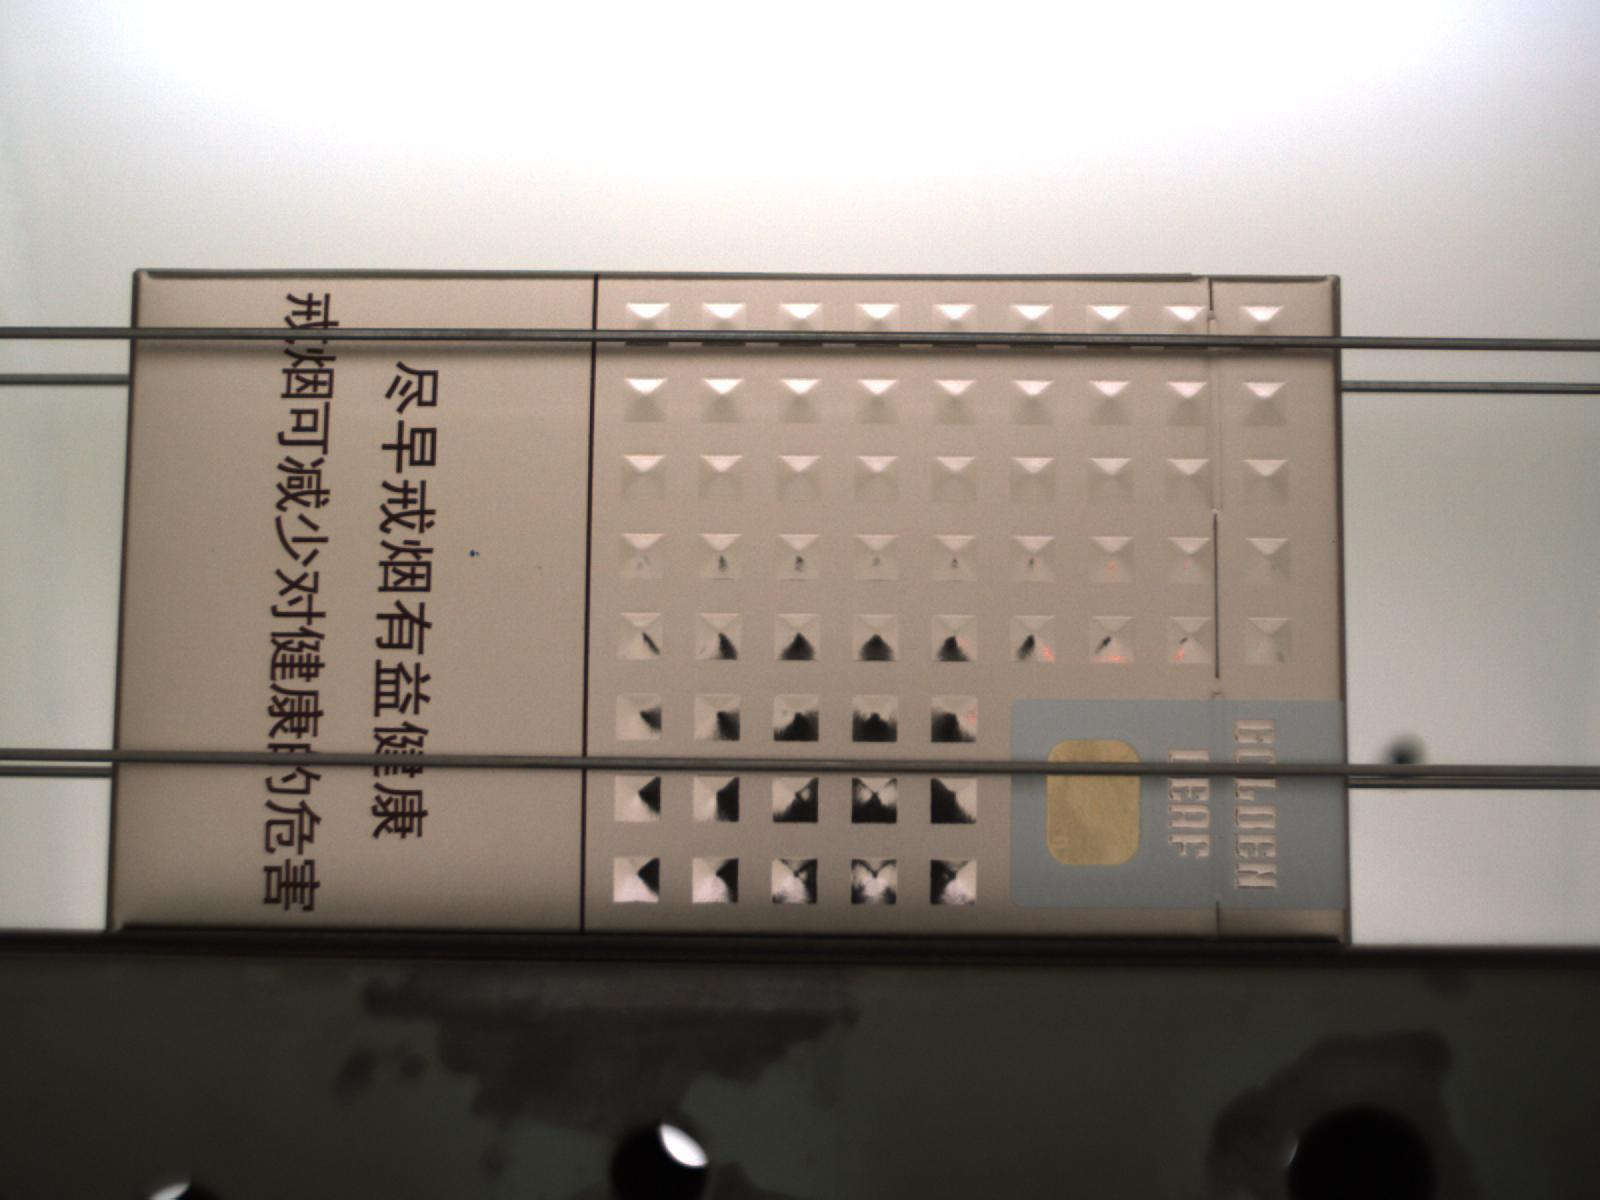dirtyOil: (469, 550, 481, 561)
dirtySpot: (537, 563, 546, 574)
